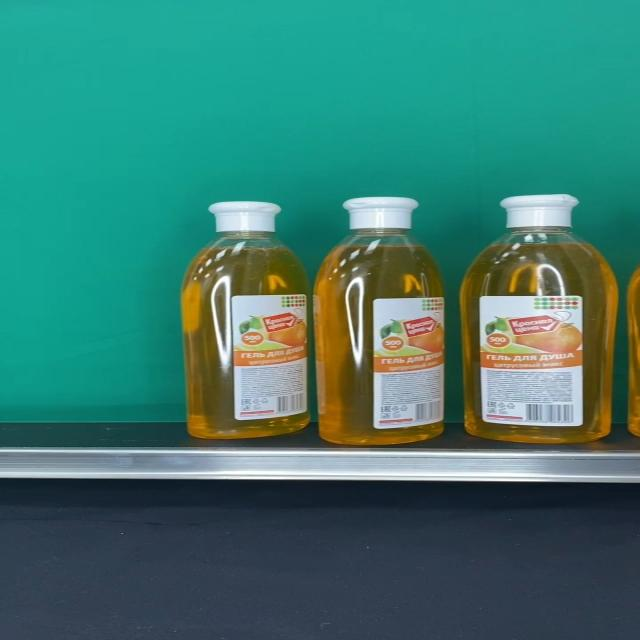Bottle: (459, 195, 618, 443), (313, 198, 444, 444), (181, 202, 308, 439)
Cap: (499, 194, 580, 228), (342, 198, 420, 230), (208, 202, 282, 233)
